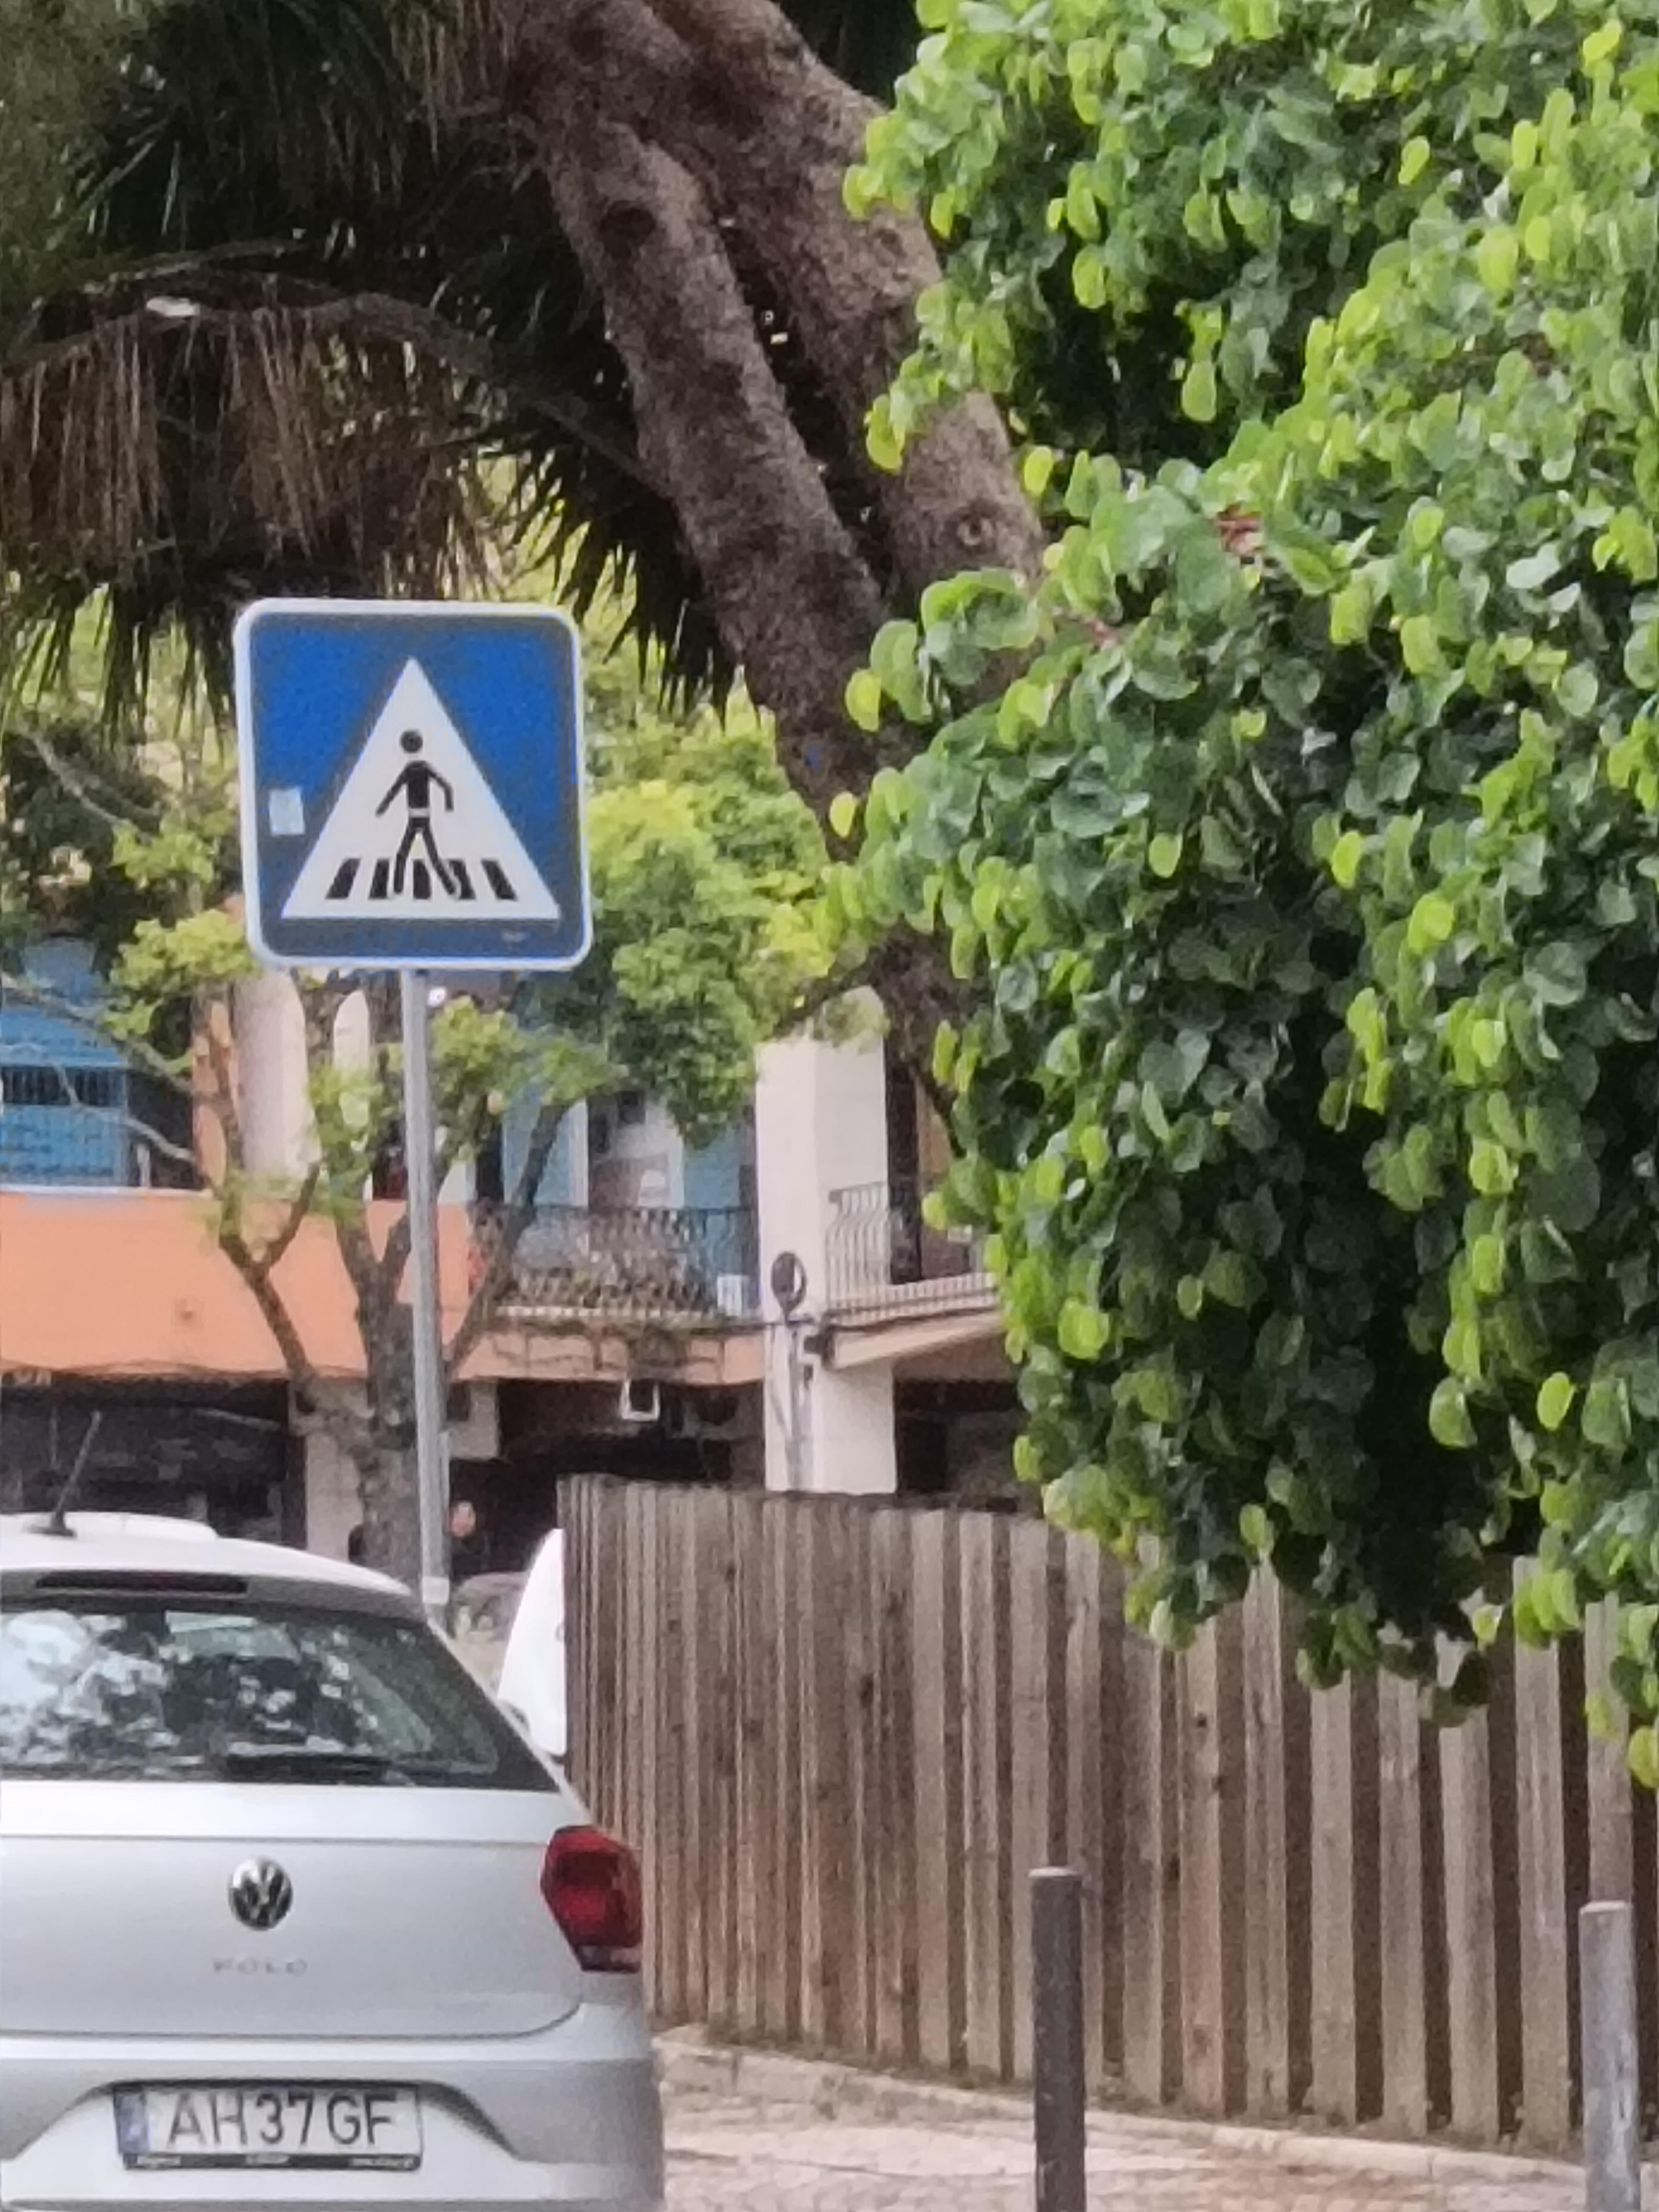passagem de peoes: (230, 559, 660, 1038)
